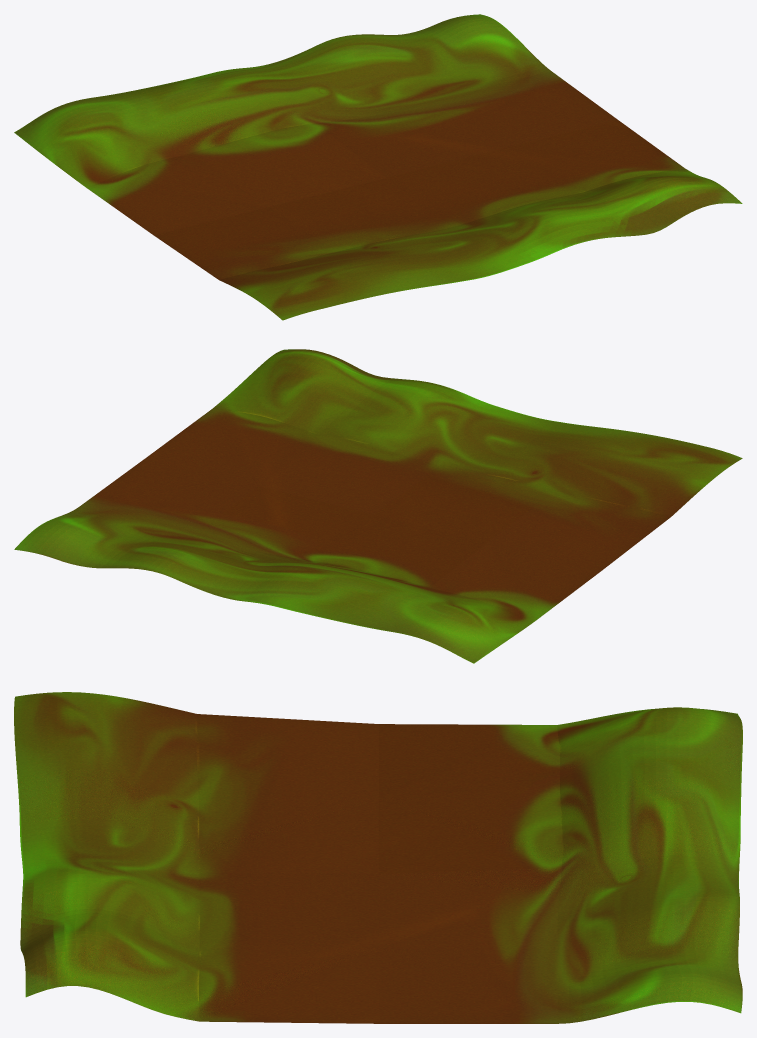
Rendered from GrassyPlane.fbx.
3 views of the same model, one above another, from view 1: azimuth 30°, elevation 25°; view 2: azimuth 150°, elevation 25°; view 3: azimuth 270°, elevation 25° (orthographic). The views are drawn at different scales.
Parts seen in each view (by area): view 1: Plane; view 2: Plane; view 3: Plane.
Boxes of the visible parts, x1,y1,x2,y2 form: Plane: (14, 14, 742, 320); Plane: (14, 349, 742, 663); Plane: (14, 692, 742, 1023).
Size of the model in its own units: 2037 by 151 by 2038.
